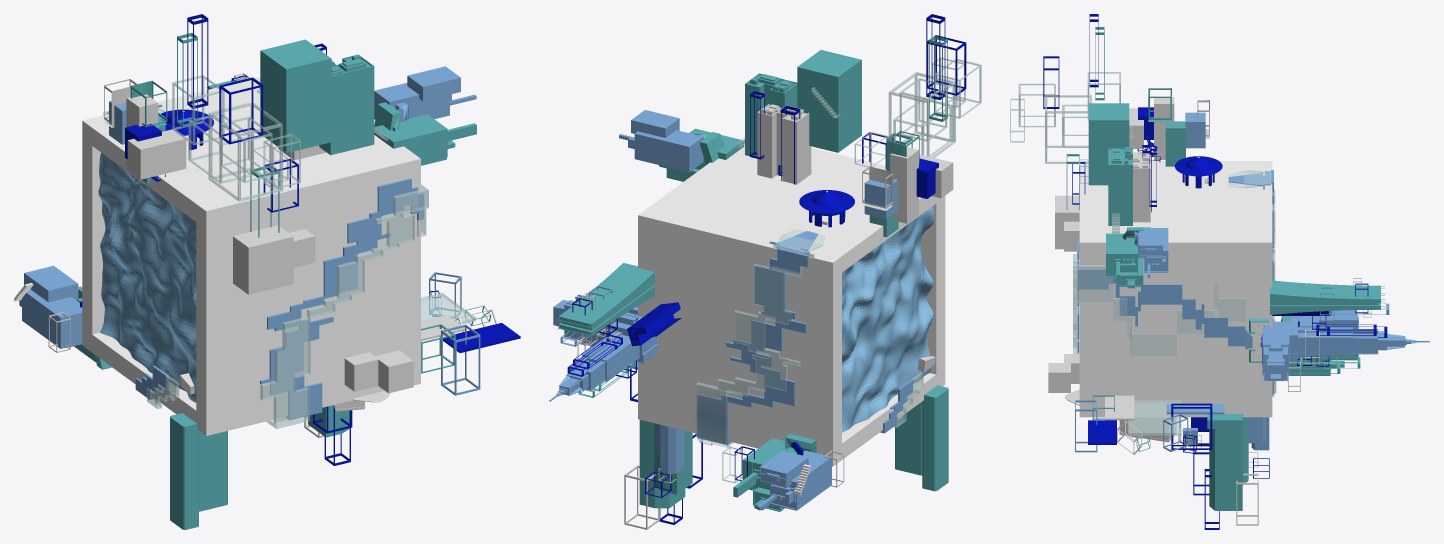
File: we1boxf.fbx
3 views of the same model, side by side, from view 1: azimuth 30°, elevation 25°; view 2: azimuth 150°, elevation 25°; view 3: azimuth 270°, elevation 25° (orthographic). The views are drawn at different scales.
Visible parts, largest first — view 1: 立方体.014, 立方体, 平面, 立方体.009, 立方体.001, 立方体.012, 立方体.250, 立方体.228, 立方体.010, 立方体.057, Cube.004, 立方体.234 (+18 smaller); view 2: 立方体.014, 平面, 立方体.009, 立方体.001, 立方体.012, 立方体.250, 立方体.228, 立方体.252, 立方体.025, 立方体.235, 立方体.022, 立方体.057 (+18 smaller); view 3: 立方体.014, 立方体, 立方体.001, 立方体.009, 立方体.017, 立方体.025, 立方体.022, 立方体.012, 立方体.228, 立方体.010, 立方体.234, Cube.002 (+18 smaller).
Boxes of the visible parts, x1,y1,x2,y2 form: 立方体.014: (82,77,420,433); 立方体: (97,134,420,435); 平面: (98,153,196,402); 立方体.009: (108,104,424,420); 立方体.001: (103,108,428,428); 立方体.012: (260,39,331,152); 立方体.250: (170,413,227,529); 立方体.228: (172,75,300,201); 立方体.010: (319,54,374,155); 立方体.057: (19,265,82,348); Cube.004: (233,225,293,294); 立方体.234: (374,102,476,165); 立方体.014: (638,137,945,466); 平面: (842,206,934,432); 立方体.009: (697,231,912,444); 立方体.001: (695,229,923,448); 立方体.012: (797,50,861,152); 立方体.250: (895,385,948,491); 立方体.228: (854,57,981,167); 立方体.252: (757,104,811,184); 立方体.025: (557,263,654,337); 立方体.235: (619,110,706,172); 立方体.022: (549,321,658,401); 立方体.057: (757,450,831,510); 立方体.014: (1079,161,1272,417); 立方体: (1080,227,1272,396); 立方体.001: (1073,167,1276,396); 立方体.009: (1077,170,1273,394); 立方体.017: (1207,414,1248,510); 立方体.025: (1270,280,1384,314); 立方体.022: (1272,321,1429,361); 立方体.012: (1088,103,1129,185); 立方体.228: (1010,72,1120,183); 立方体.010: (1108,147,1132,225); 立方体.234: (1106,227,1150,288); Cube.002: (1128,400,1181,435).
Bounding box in the file's own units: 1592 × 2333 × 2071.
